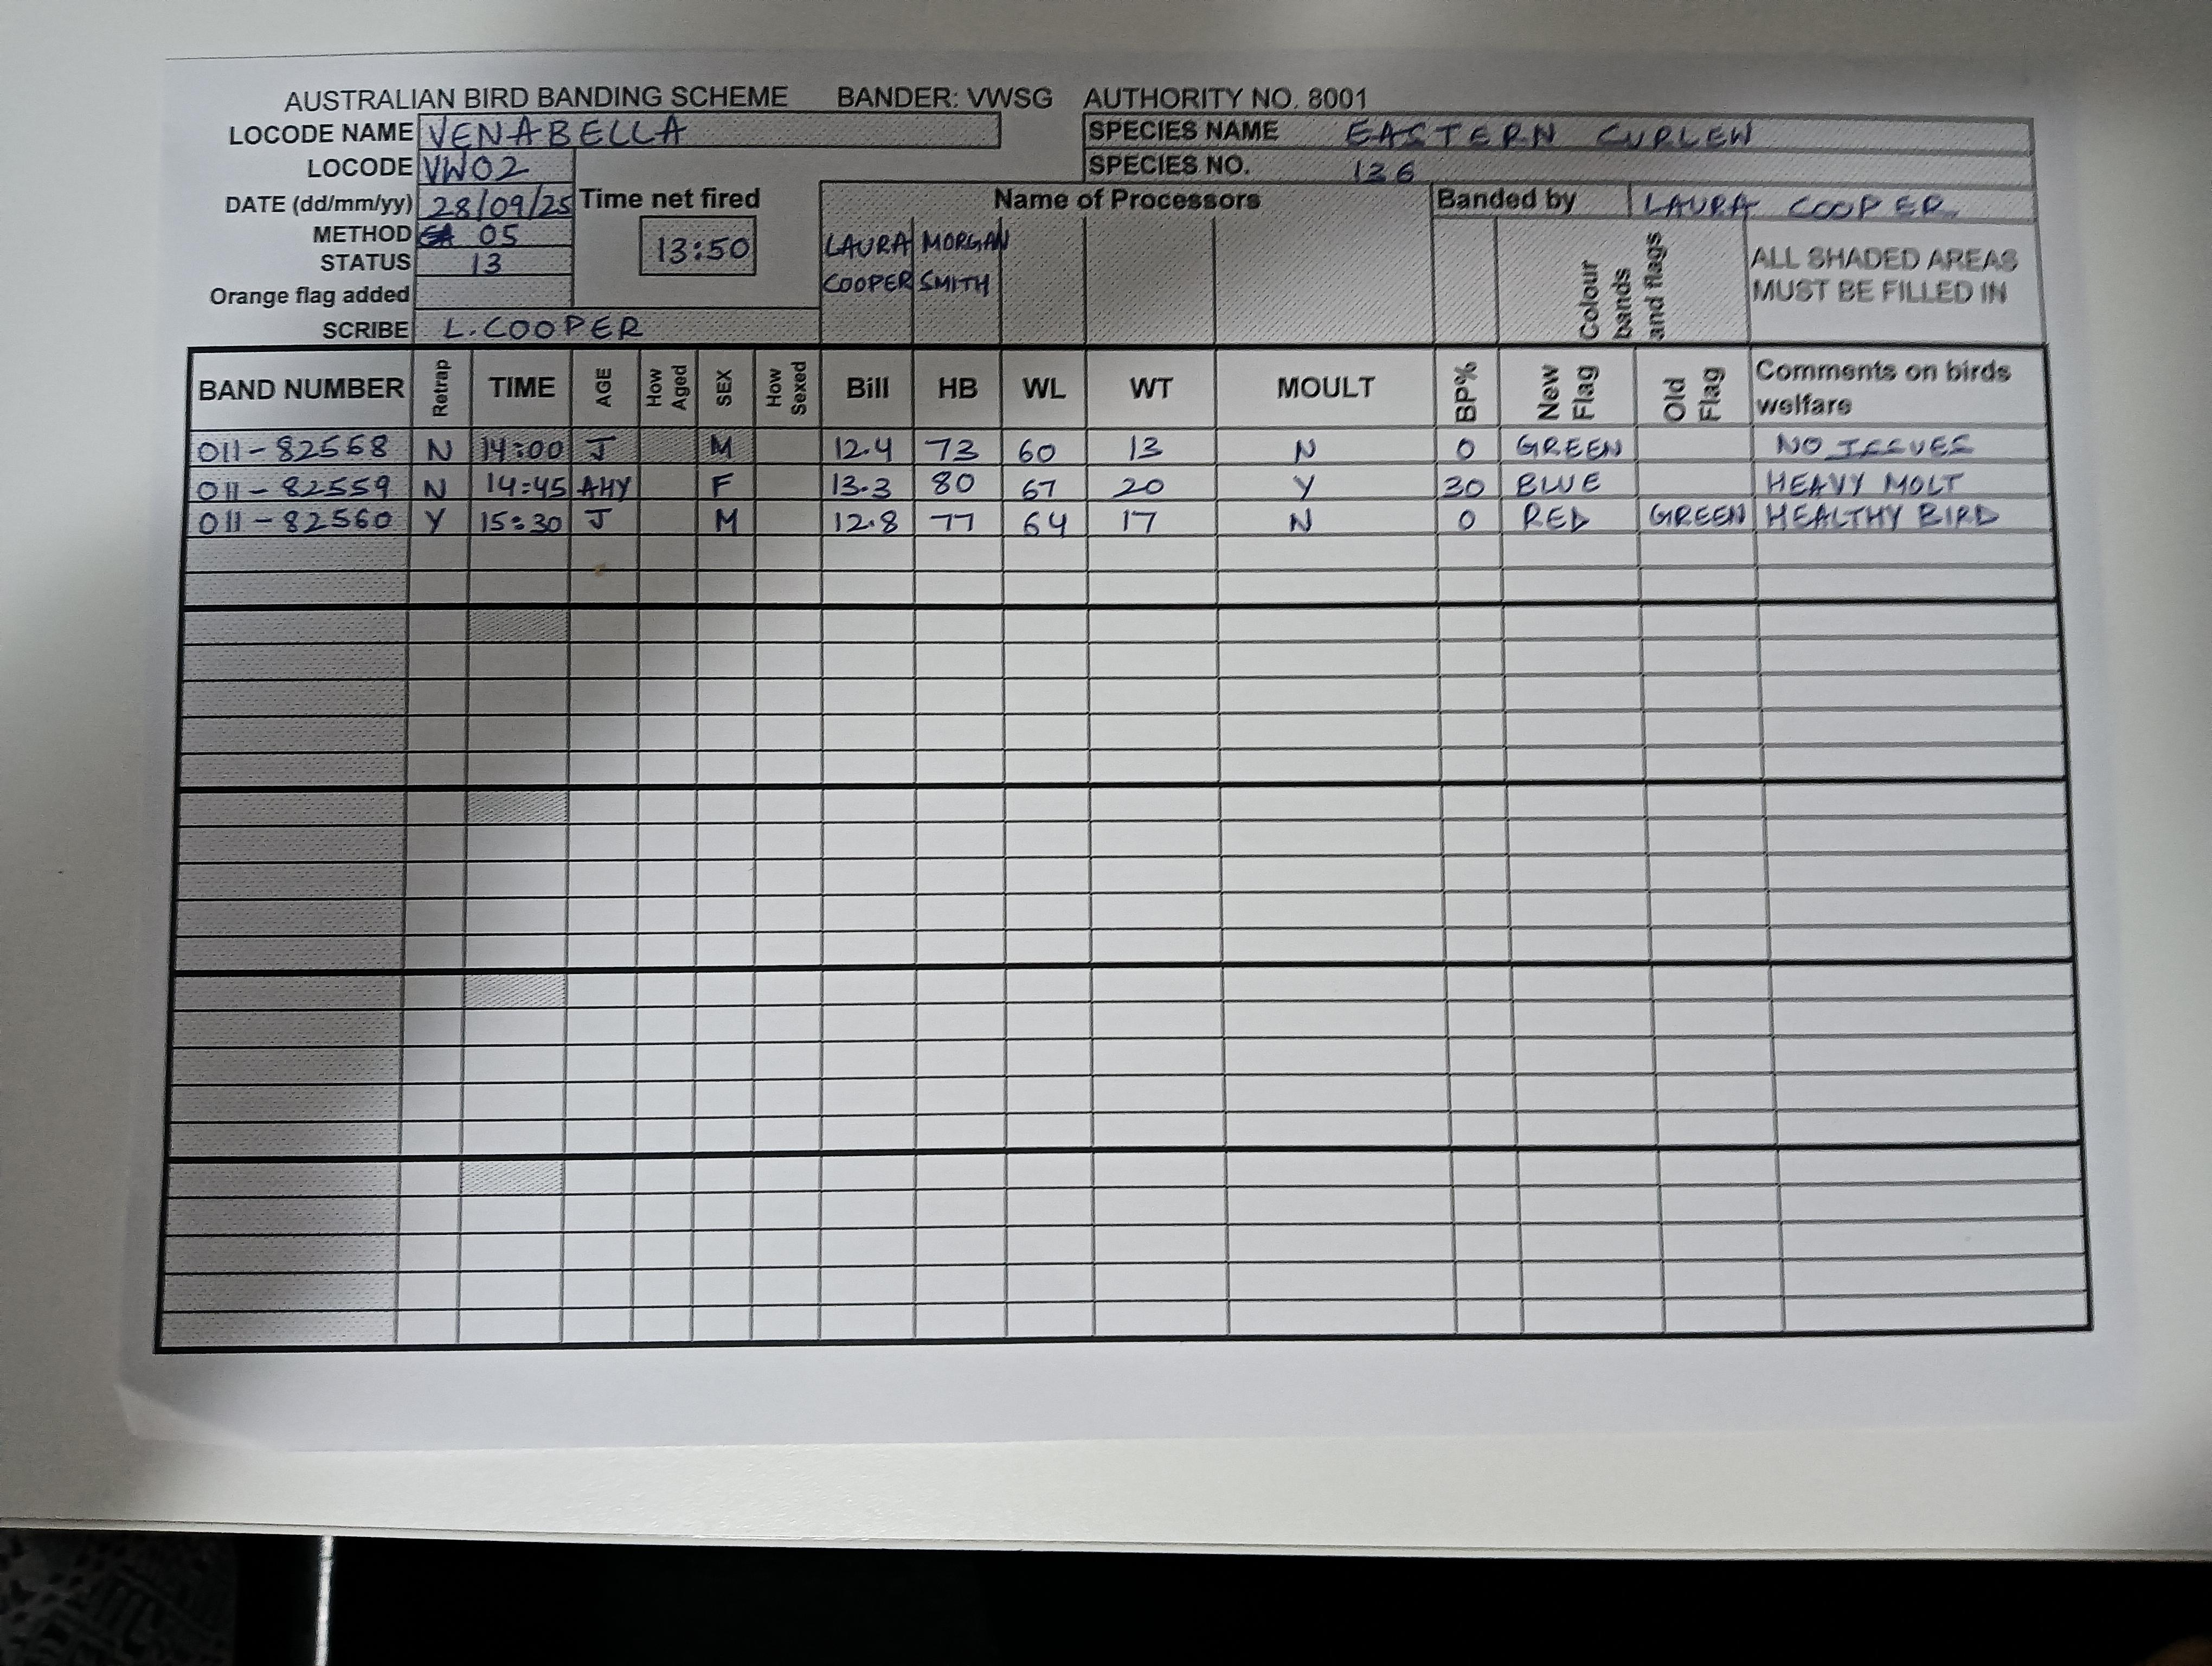BANDED_BY: (1434, 184, 2035, 221)
DATA: (192, 464, 2055, 501), (191, 427, 2046, 464), (187, 501, 2056, 534)
DATE: (215, 186, 581, 224)
LOCOCODE: (280, 145, 575, 180)
LOCOCODE_NAME: (215, 114, 998, 149)
METHOD: (311, 212, 577, 247)
NAME_OF_PROCESSORS: (913, 214, 1005, 343), (825, 215, 915, 345)
ORANGE_FLAG_ADDED: (199, 280, 575, 308)
SCRIBE: (301, 310, 820, 341)
SPECIES_NAME: (1084, 116, 2037, 156)
SPECIES_NO: (1086, 150, 2037, 186)
STATUS: (318, 249, 577, 275)
TIME_NET_FIRED: (579, 172, 799, 292)
